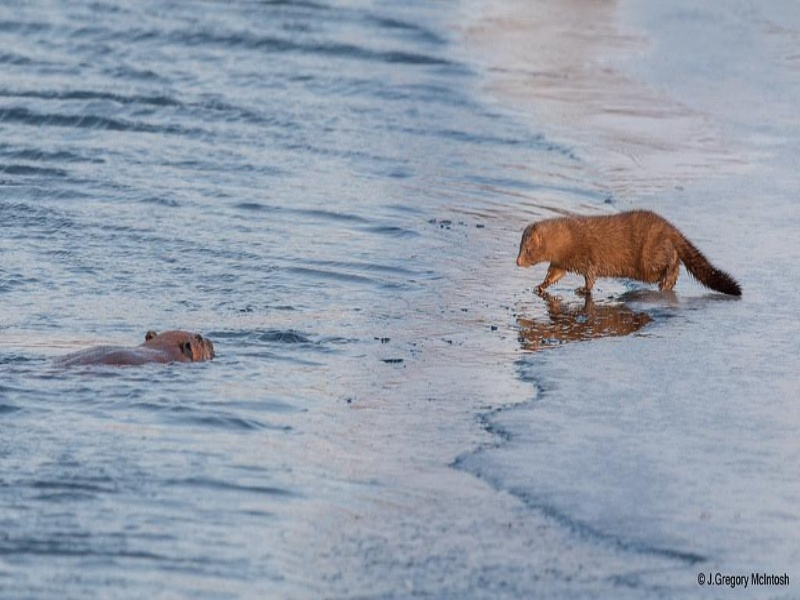minkish: (513, 208, 744, 302), (52, 326, 214, 377)
